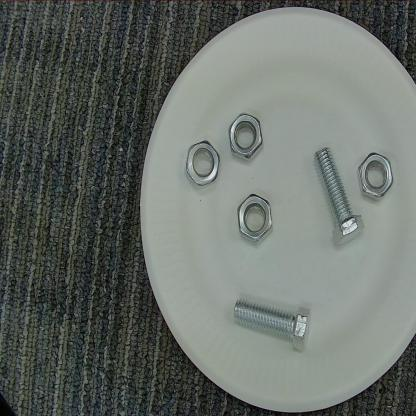FOD: (304, 144, 366, 251), (224, 292, 321, 357), (353, 148, 399, 206), (224, 109, 266, 170), (234, 190, 274, 249), (183, 138, 222, 190)
